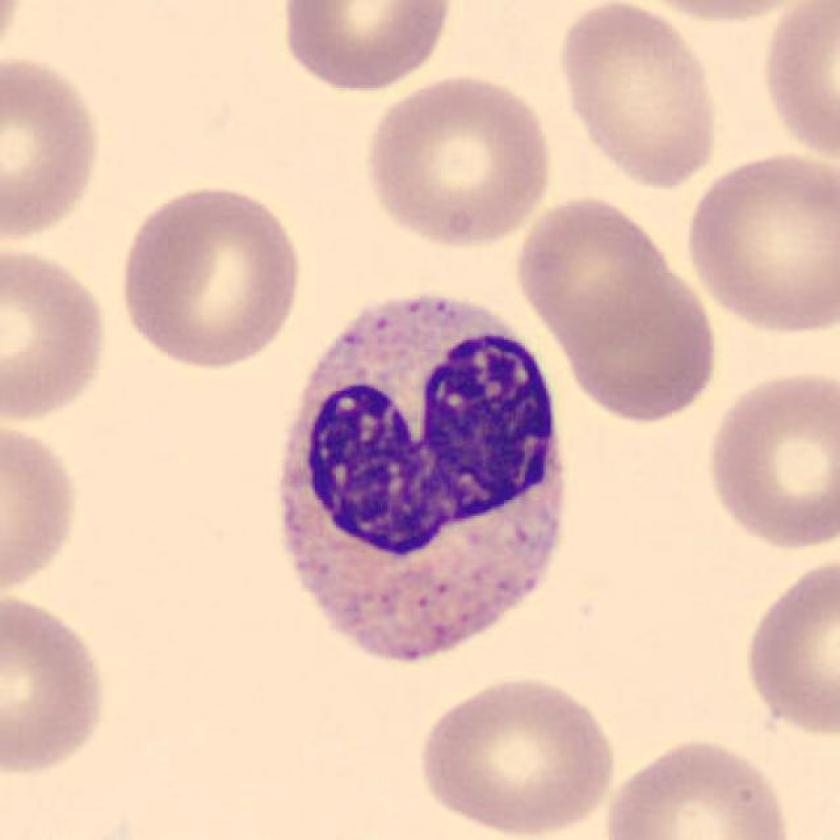neutrophil: (281, 294, 563, 664)
